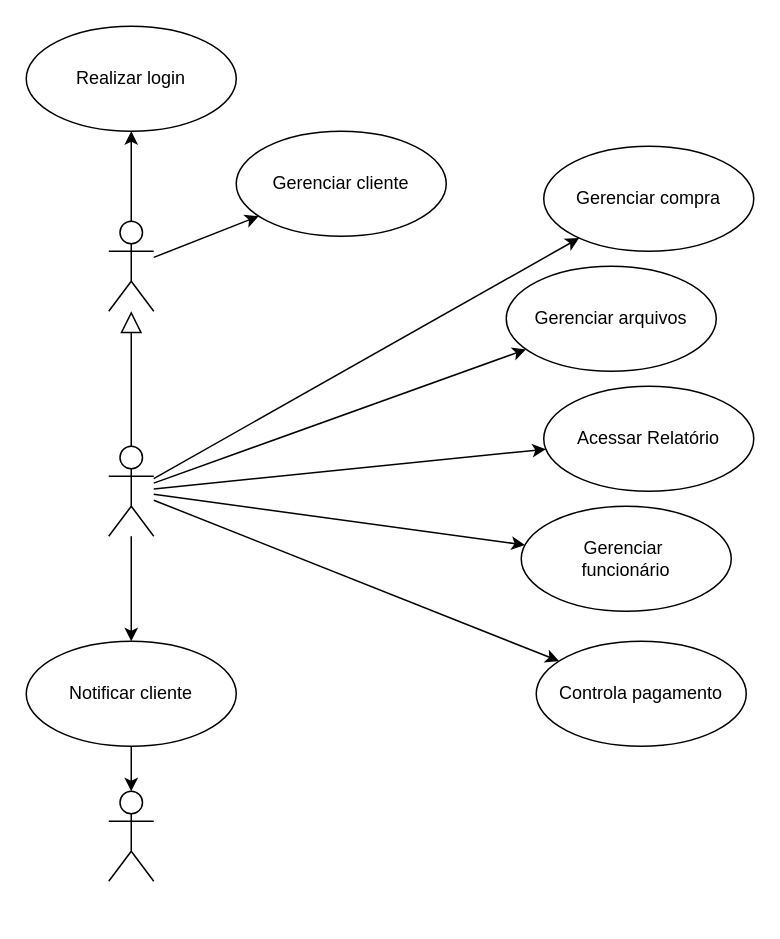
The diagram is 780 pixels wide and 939 high, and some of its shapes have lost their labels. The shapes that lost their labels are listed below. From the top down, each one's centre as x and y in pixels, then its label:
At point 130,265: "Funcionario".
At point 130,490: "Gestor".
At point 130,835: "Cliente".
